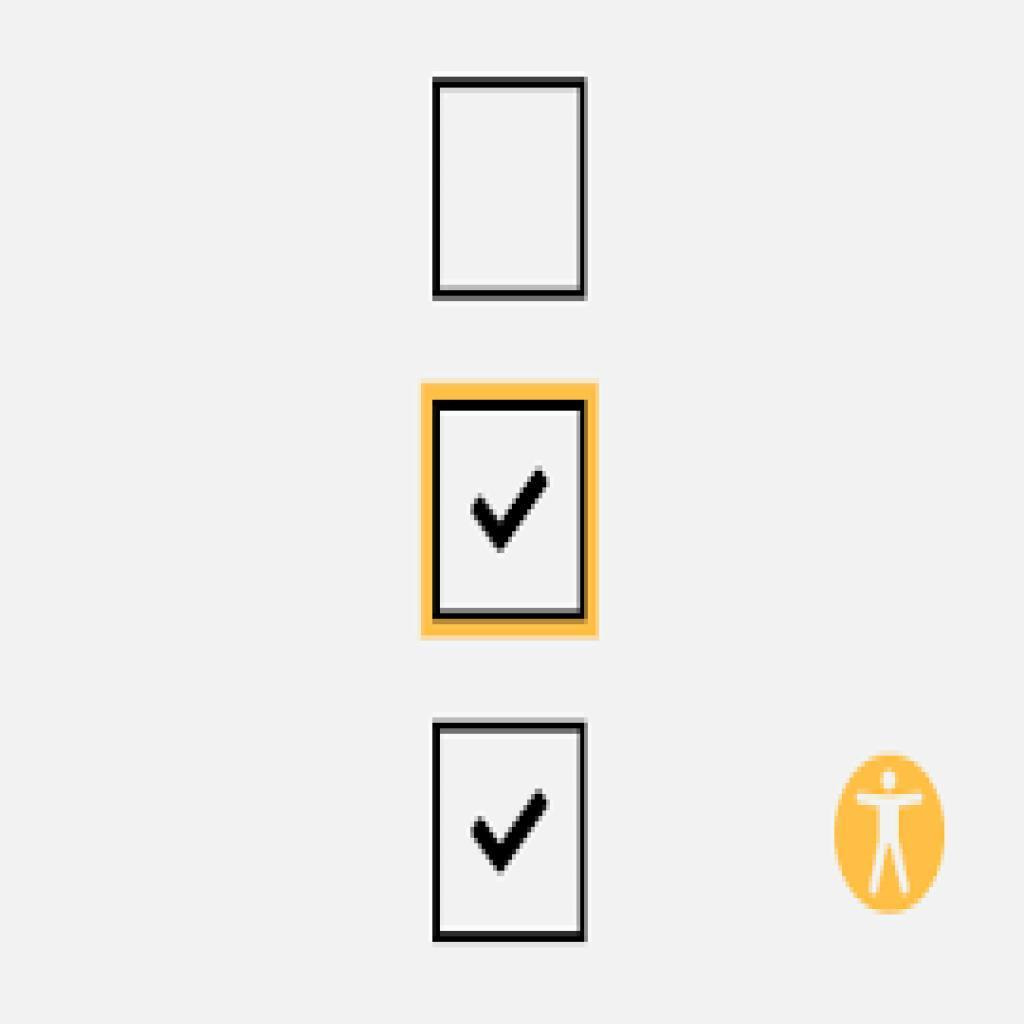checkbox: (422, 383, 599, 638), (433, 78, 589, 304), (434, 719, 589, 941)
